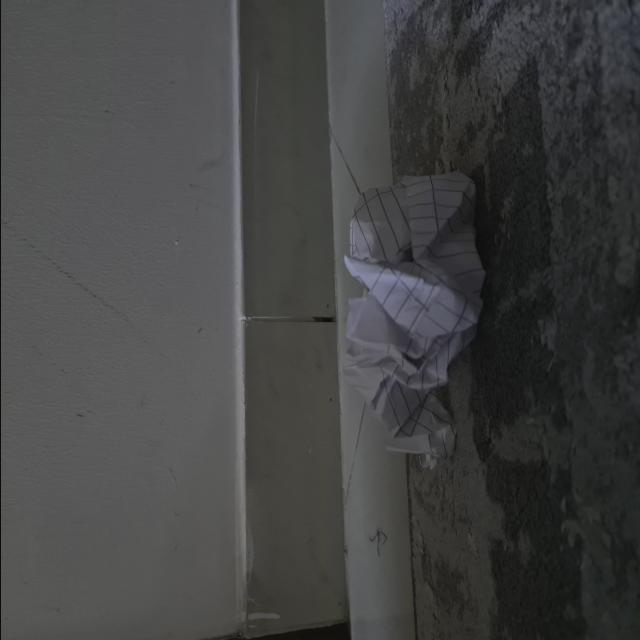Paper: (323, 156, 508, 480)
